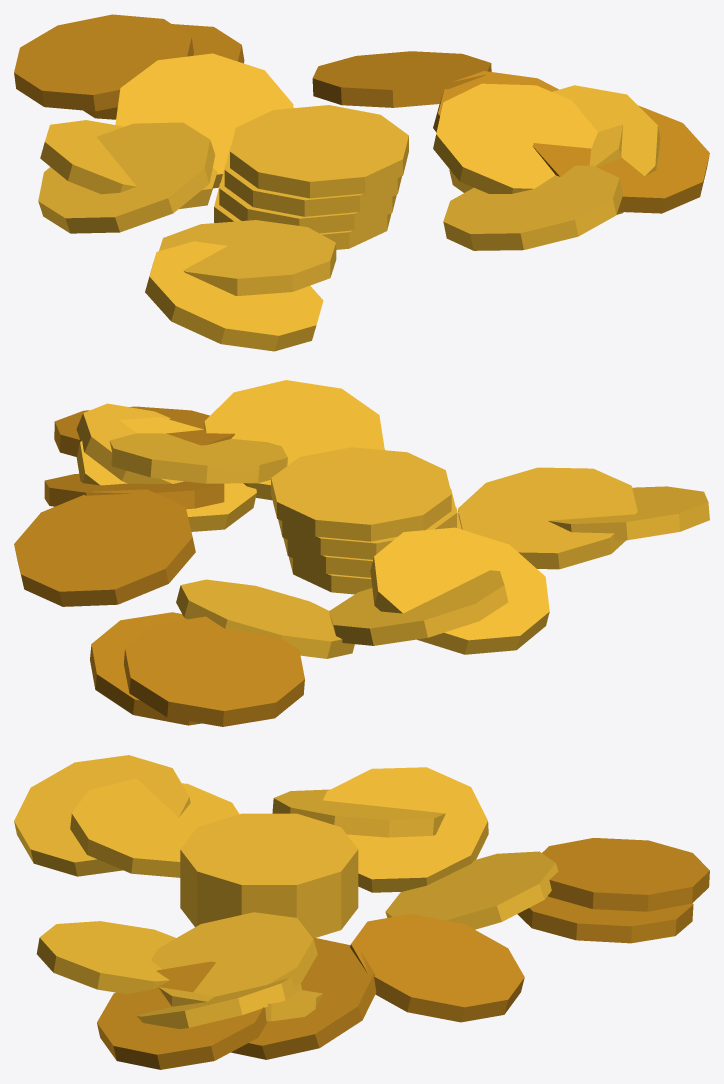
Rendered from coin_pile.fbx.
3 renders of one model, top to bottom at view 1: azimuth 30°, elevation 25°; view 2: azimuth 150°, elevation 25°; view 3: azimuth 270°, elevation 25°, orthographic. The views are drawn at different scales.
Visible parts, largest first — view 1: coin_pile; view 2: coin_pile; view 3: coin_pile.
Boxes of the visible parts, x1,y1,x2,y2 form: coin_pile: [14, 14, 709, 351]; coin_pile: [14, 380, 709, 726]; coin_pile: [14, 755, 709, 1069].
Bounding box in the file's own units: 0.2198 × 0.031 × 0.2346.
